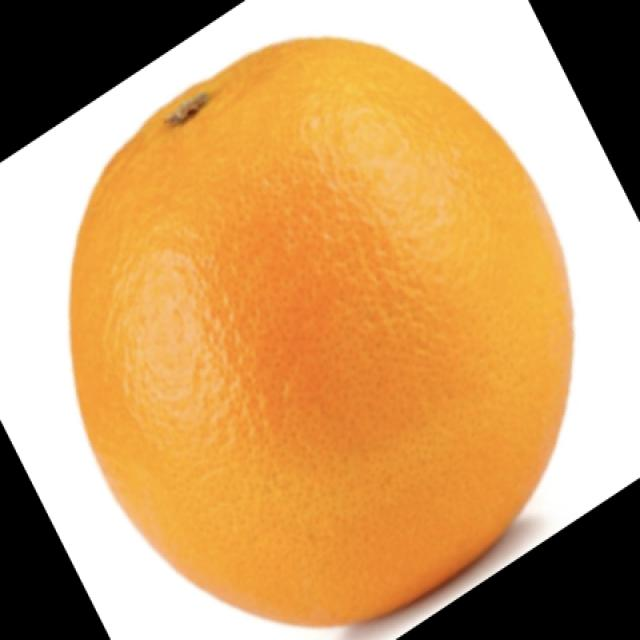matang: (70, 45, 562, 620)
